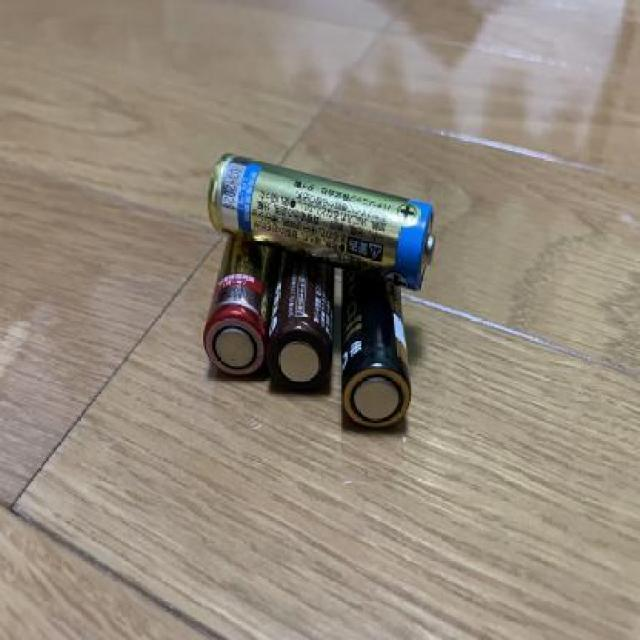hazardous waste: (205, 148, 438, 292), (340, 254, 412, 443), (200, 230, 283, 390), (266, 238, 337, 394)
